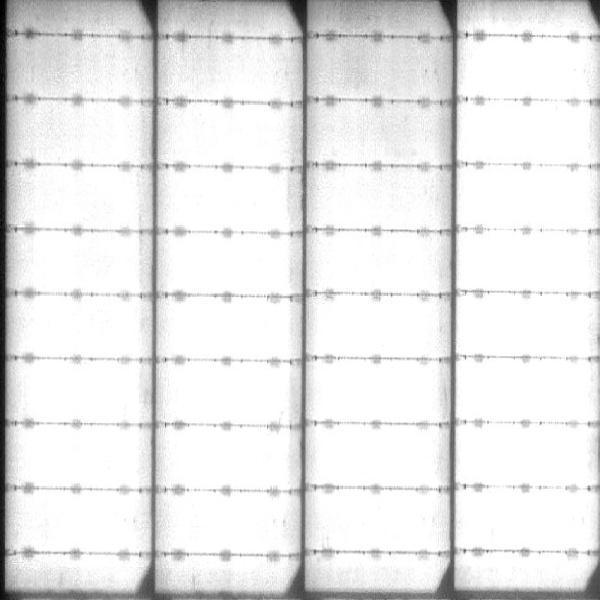hot_spot: (462, 170, 590, 227), (20, 428, 147, 484), (468, 233, 588, 289), (22, 365, 144, 418), (170, 172, 285, 228), (464, 299, 583, 353), (467, 496, 593, 546), (468, 108, 586, 161), (468, 364, 582, 418), (168, 435, 290, 485), (24, 496, 140, 548), (319, 367, 437, 418), (468, 42, 587, 92), (319, 431, 439, 480), (164, 242, 288, 289), (317, 497, 441, 542), (171, 303, 282, 353), (468, 430, 586, 477), (29, 303, 142, 352), (323, 242, 440, 289), (171, 369, 287, 416), (32, 239, 140, 288), (318, 306, 435, 351), (176, 498, 284, 546), (463, 559, 580, 580)
